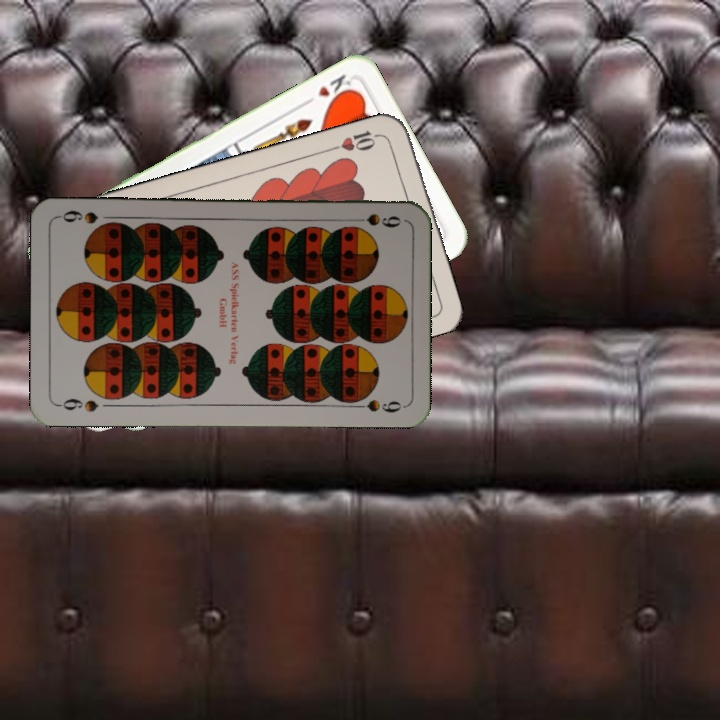H10: (327, 126, 386, 154)
HK: (299, 70, 357, 109)
S9: (345, 210, 403, 230), (55, 395, 101, 415)
